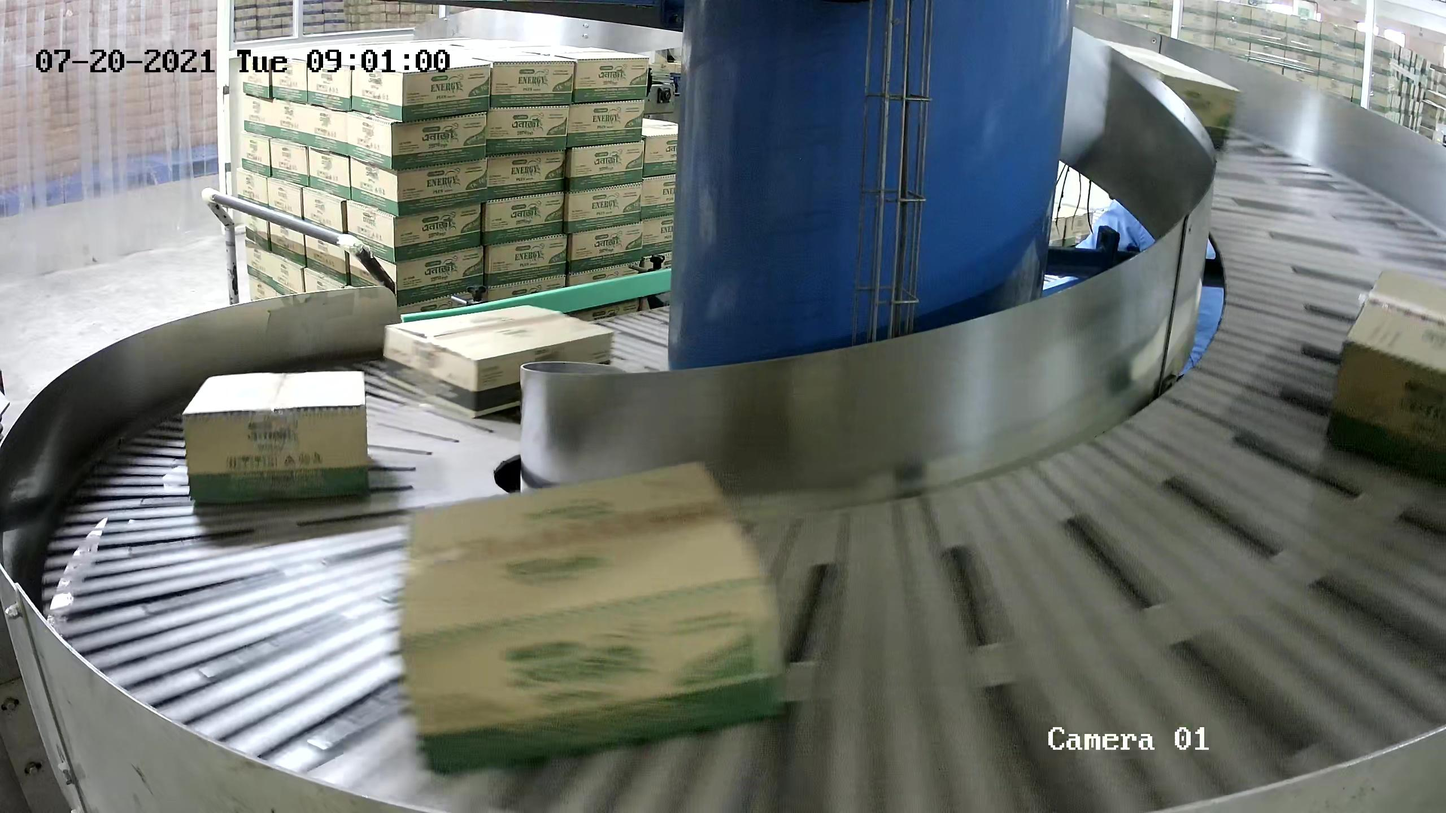Box: (394, 458, 790, 776), (382, 304, 614, 418), (181, 370, 370, 504), (1325, 266, 1446, 474), (1093, 36, 1242, 152)
